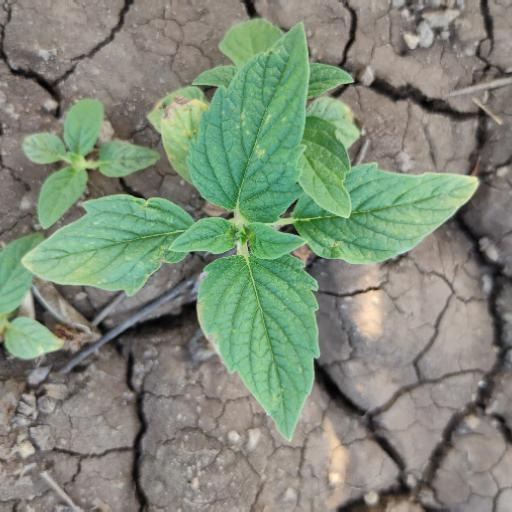crop: (28, 25, 477, 440), (20, 94, 161, 211)
